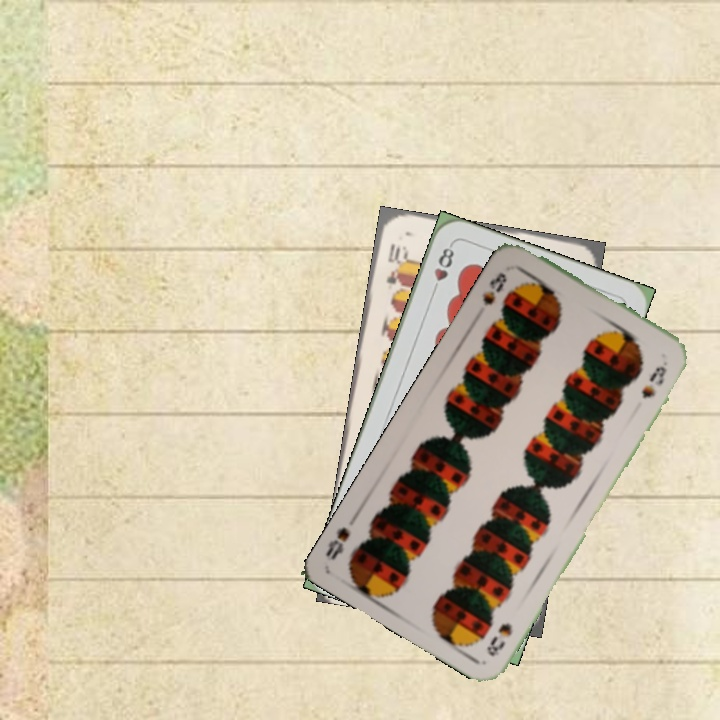E10: (382, 239, 408, 287)
H8: (427, 241, 457, 298)
S8: (482, 619, 515, 659), (478, 268, 510, 308)
